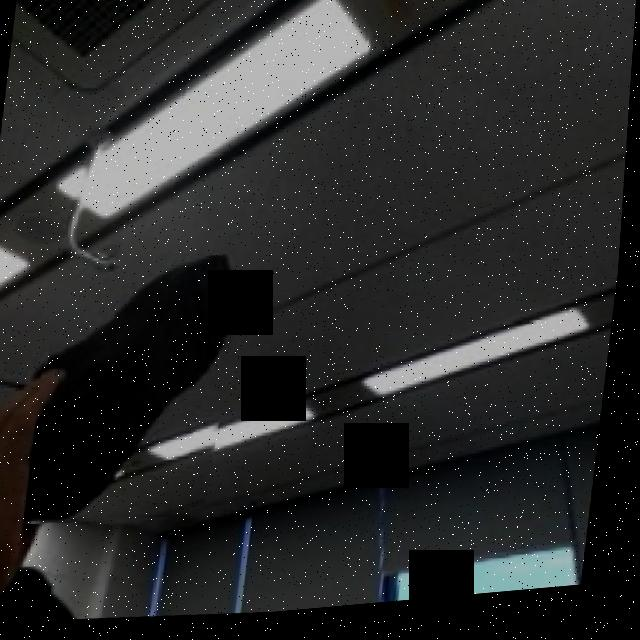shoe: (30, 246, 253, 536)
